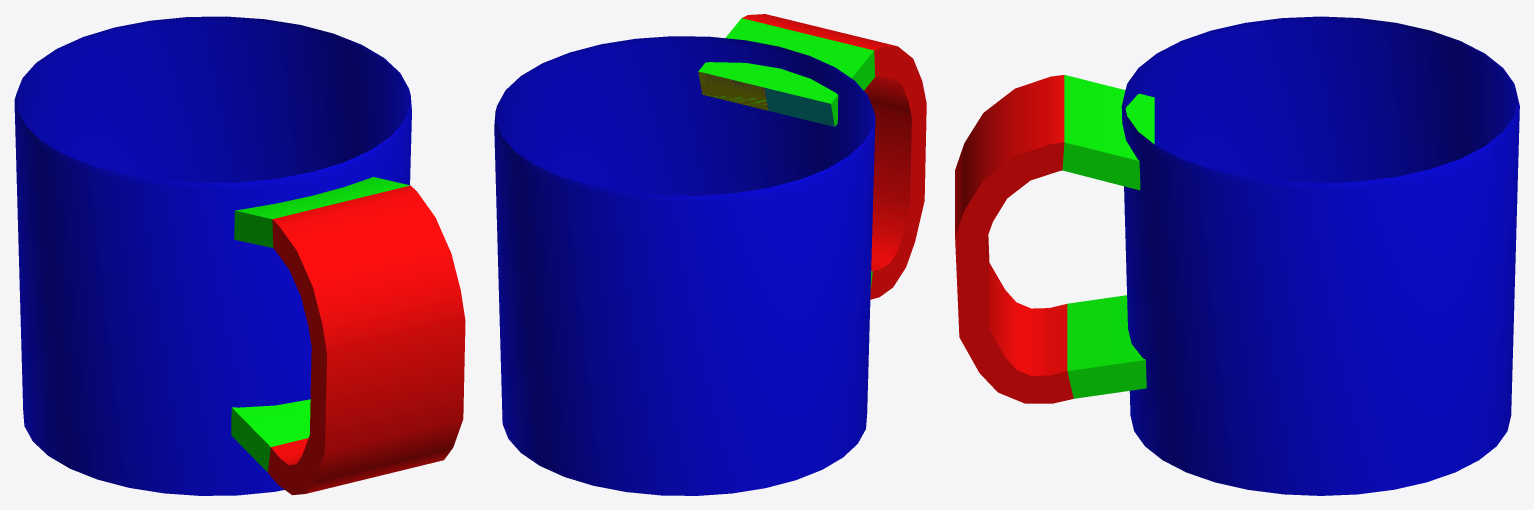
Rendered from Hot Chocolate Mug.fbx.
3 renders of one model, left to right at view 1: azimuth 30°, elevation 25°; view 2: azimuth 150°, elevation 25°; view 3: azimuth 270°, elevation 25°, orthographic. The views are drawn at different scales.
Parts seen in each view (by area): view 1: Hot Chocolate Mug; view 2: Hot Chocolate Mug; view 3: Hot Chocolate Mug.
Part boxes in pixels (x1,y1,x2,y2): Hot Chocolate Mug: (14,16,465,495); Hot Chocolate Mug: (494,14,926,495); Hot Chocolate Mug: (955,16,1519,495).
Size of the model in its own units: 18.88 by 16.84 by 26.78.
